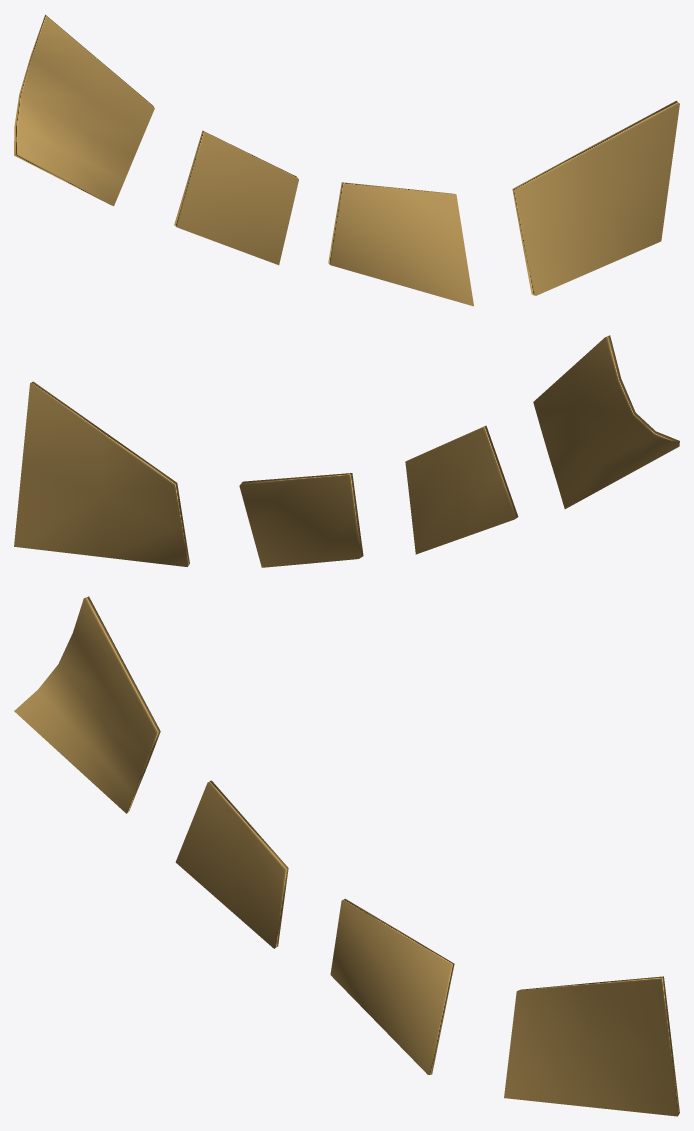
The picture shows the model from 3 angles, top to bottom: view 1: azimuth 30°, elevation 25°; view 2: azimuth 150°, elevation 25°; view 3: azimuth 330°, elevation 25°; orthographic projection.
Visible parts, largest first — view 1: 右侧跖骨深横韧带; view 2: 右侧跖骨深横韧带; view 3: 右侧跖骨深横韧带.
Boxes of the visible parts, x1,y1,x2,y2 form: 右侧跖骨深横韧带: (14, 14, 679, 306); 右侧跖骨深横韧带: (14, 335, 679, 567); 右侧跖骨深横韧带: (14, 596, 679, 1116).
Size of the model in its own units: 0.0797 by 0.0424 by 0.00971.
